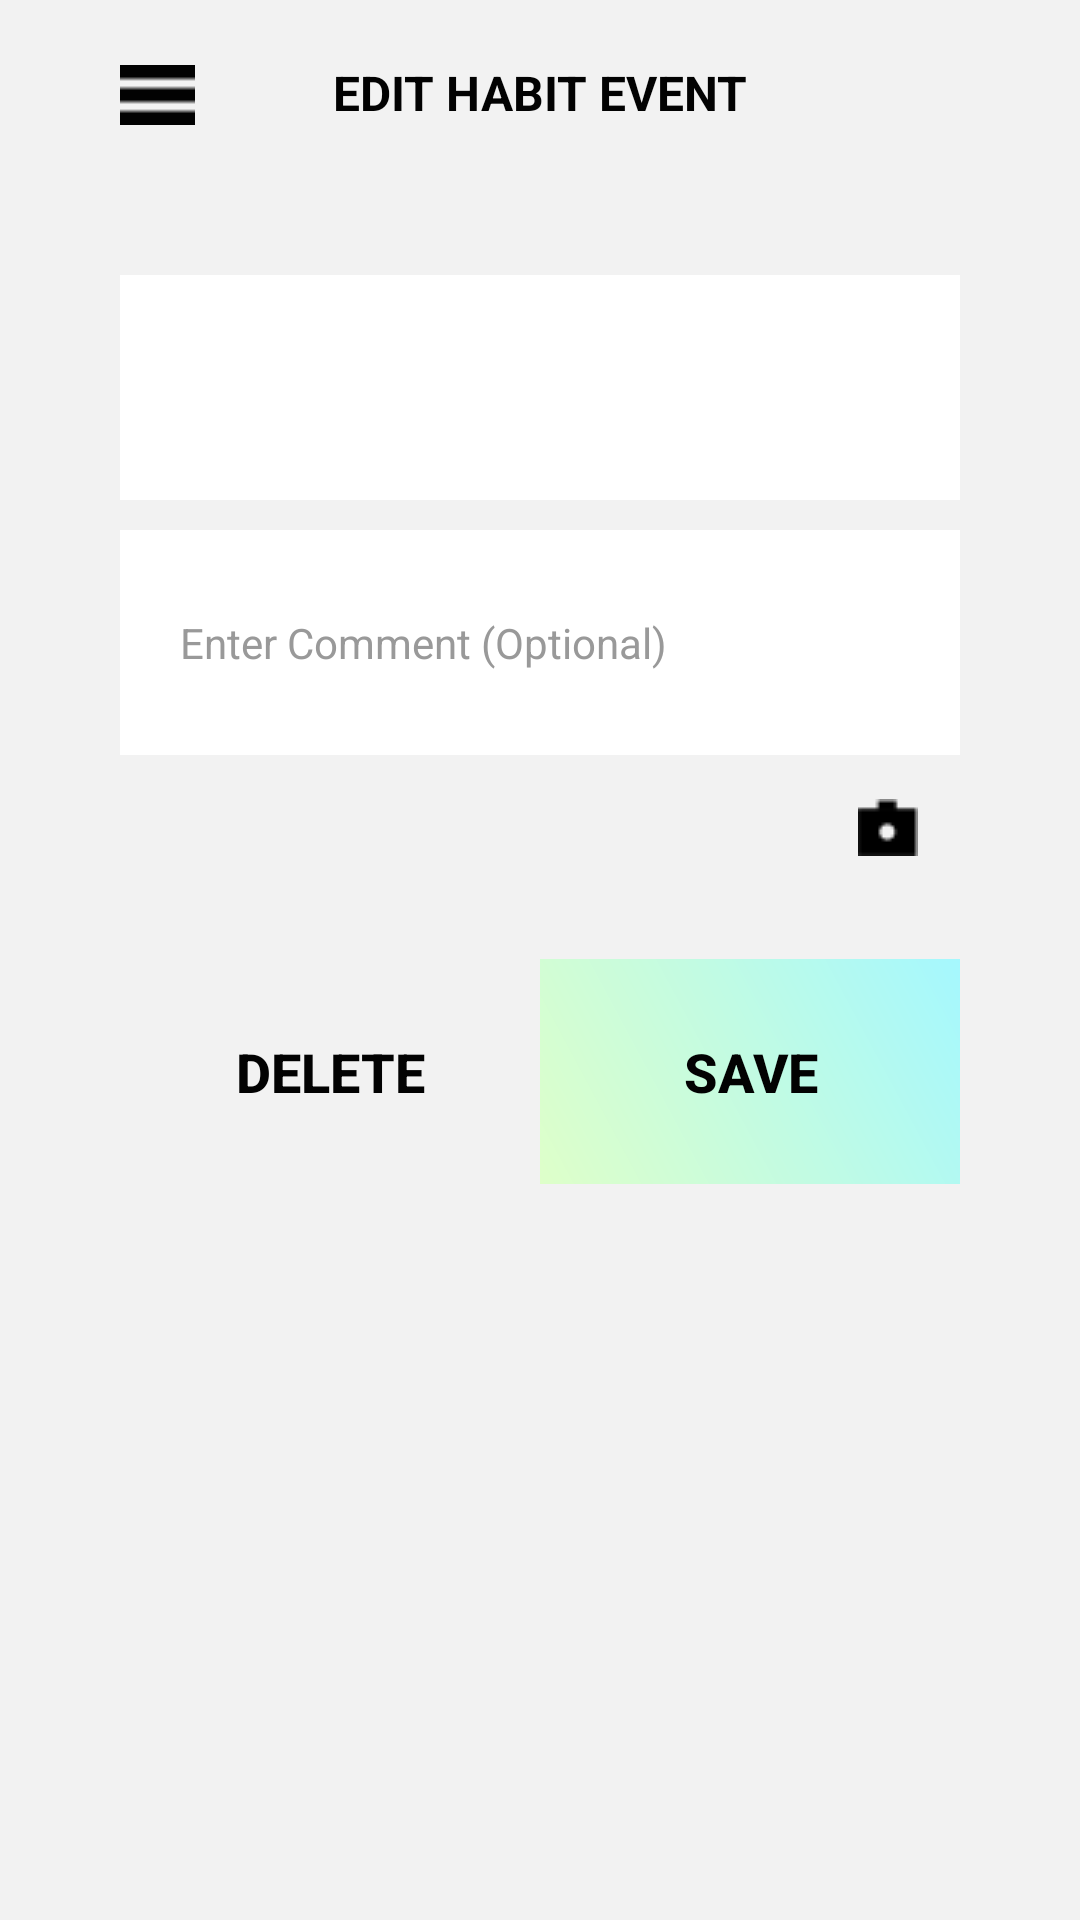

Icons on this 1080 × 1920 Android screen, each with its box as bbox(x1, y1, x2, y2):
menu: bbox(120, 65, 195, 125)
